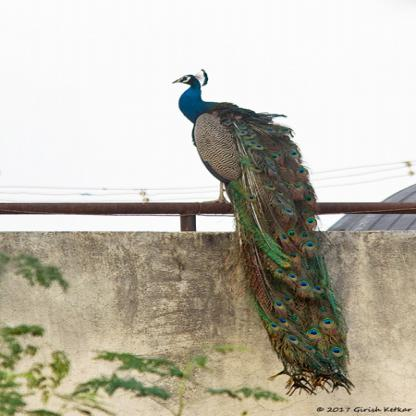Burung: (170, 68, 353, 394)
